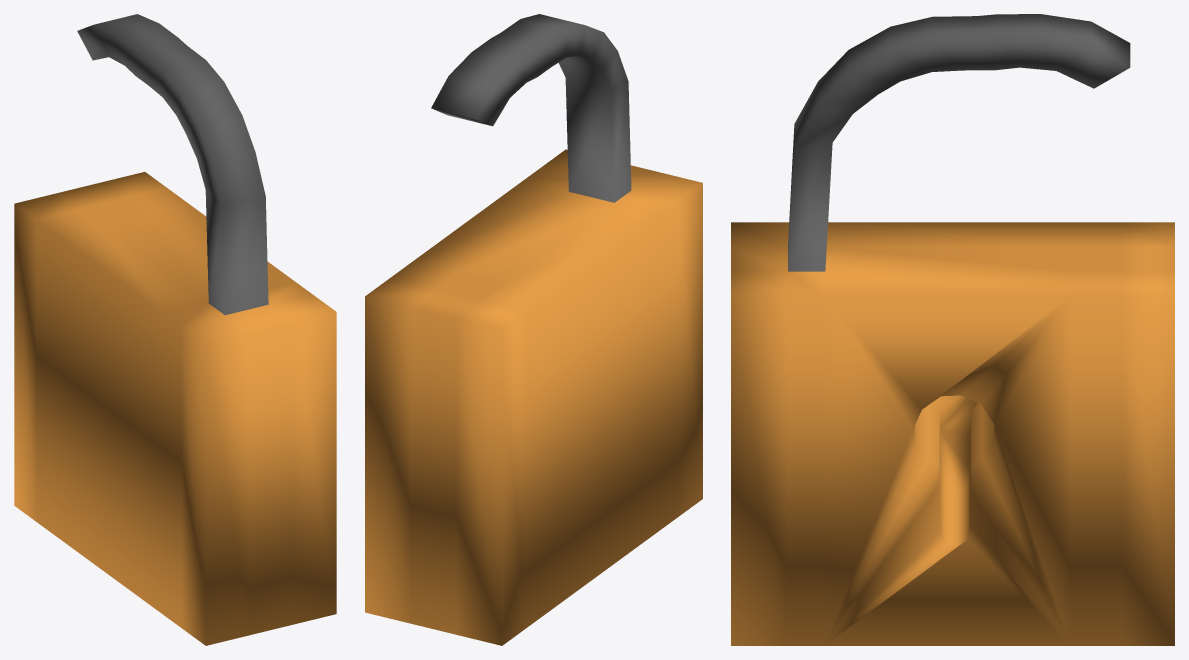
The model's file is UnLocked.fbx.
The picture shows the model from 3 angles, left to right: view 1: azimuth 30°, elevation 25°; view 2: azimuth 150°, elevation 25°; view 3: azimuth 270°, elevation 25°; orthographic projection. The views are drawn at different scales.
Visible parts, largest first — view 1: Cube; view 2: Cube; view 3: Cube.
Part boxes in pixels (bbox=[...]): Cube: bbox=[14, 14, 336, 645]; Cube: bbox=[365, 14, 702, 645]; Cube: bbox=[731, 14, 1174, 645].
Size of the model in its own units: 99.12 by 364 by 251.
